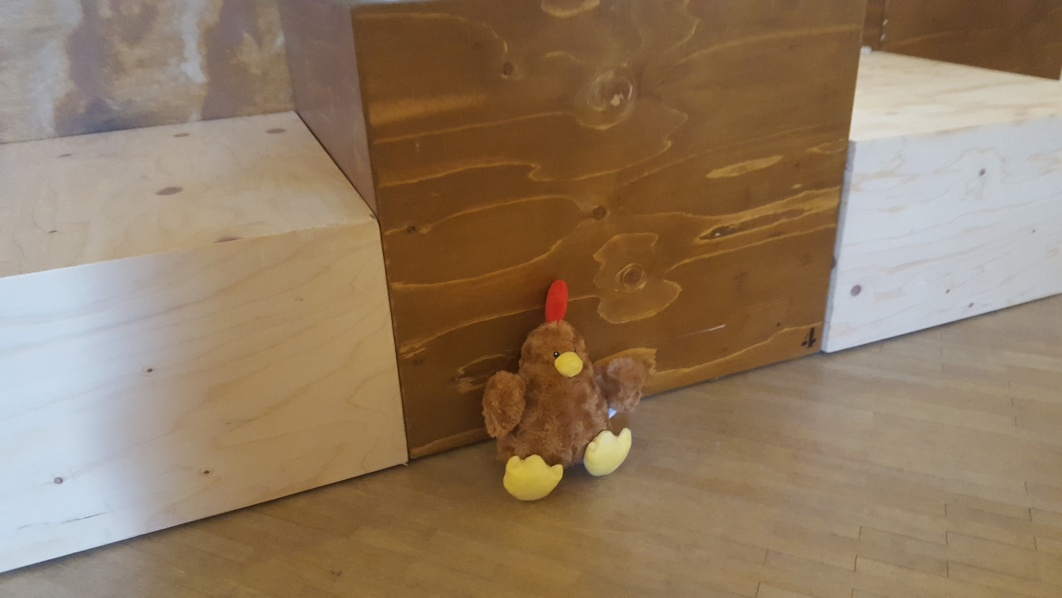chicken: (482, 278, 650, 501)
